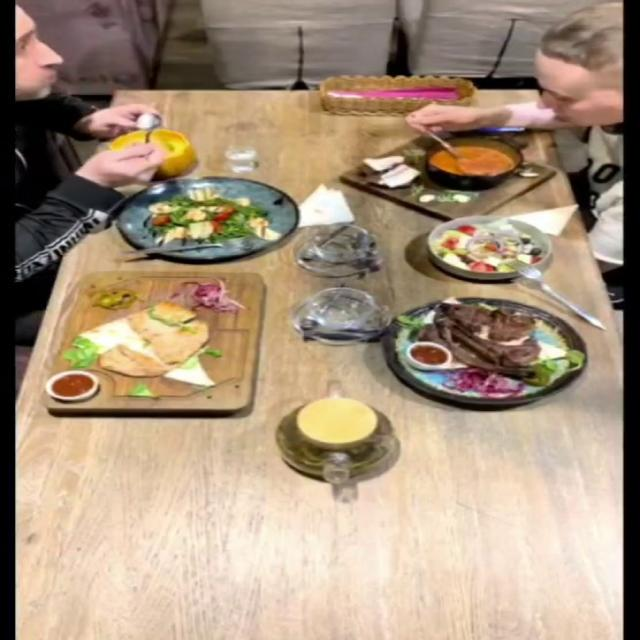alcohol: (210, 125, 259, 184)
meat: (380, 296, 589, 406)
salat: (112, 176, 296, 260), (426, 213, 555, 280)
soup: (334, 134, 555, 222), (108, 128, 197, 179)
tea: (296, 396, 377, 446)
